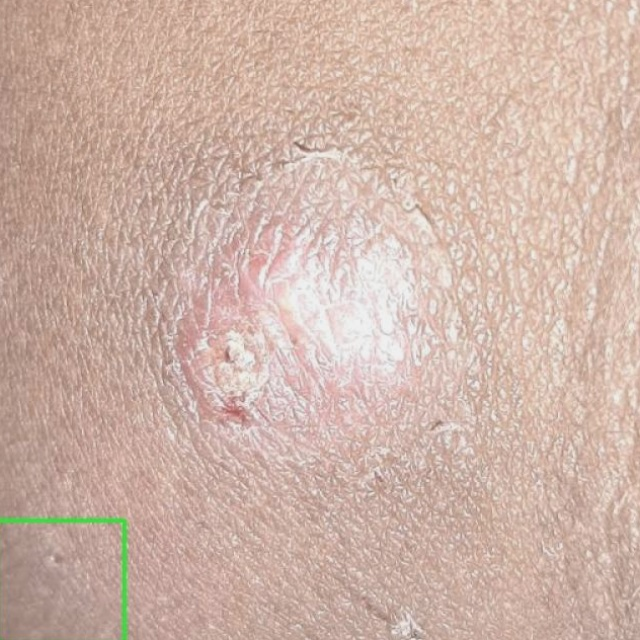Contact Dermatitis: (0, 520, 125, 639)
